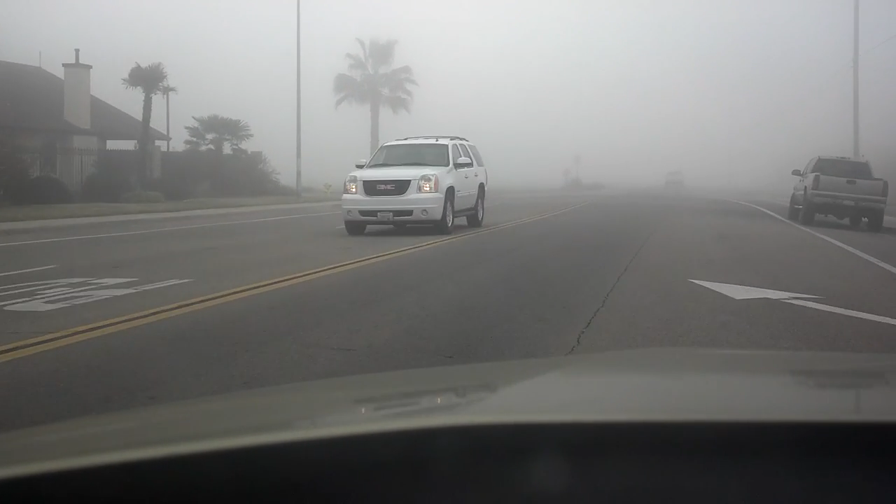car: (338, 135, 488, 237), (786, 154, 889, 232), (664, 169, 684, 187)
